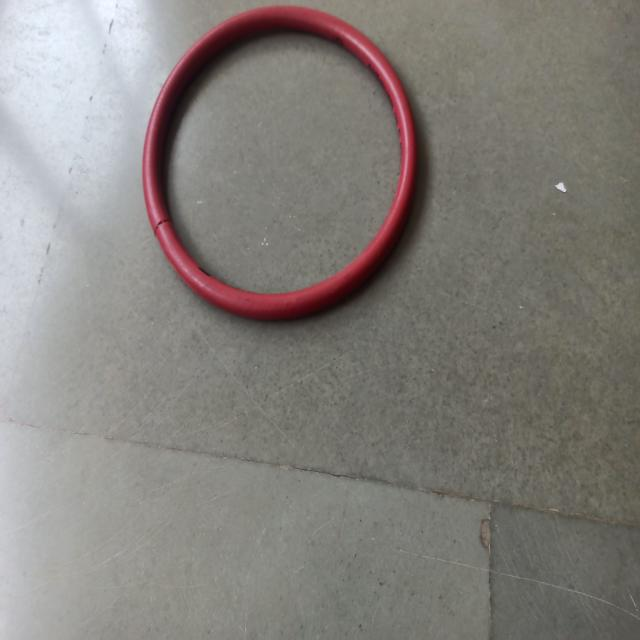daire: (146, 7, 418, 314)
